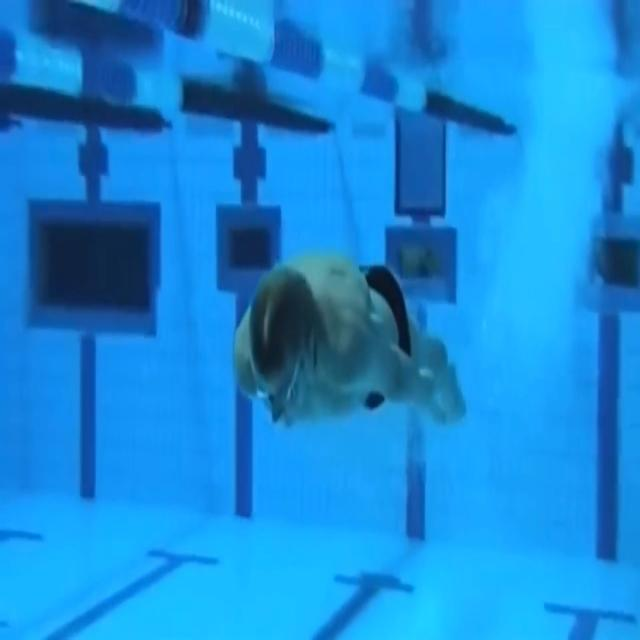Swimming: (232, 256, 468, 434)
